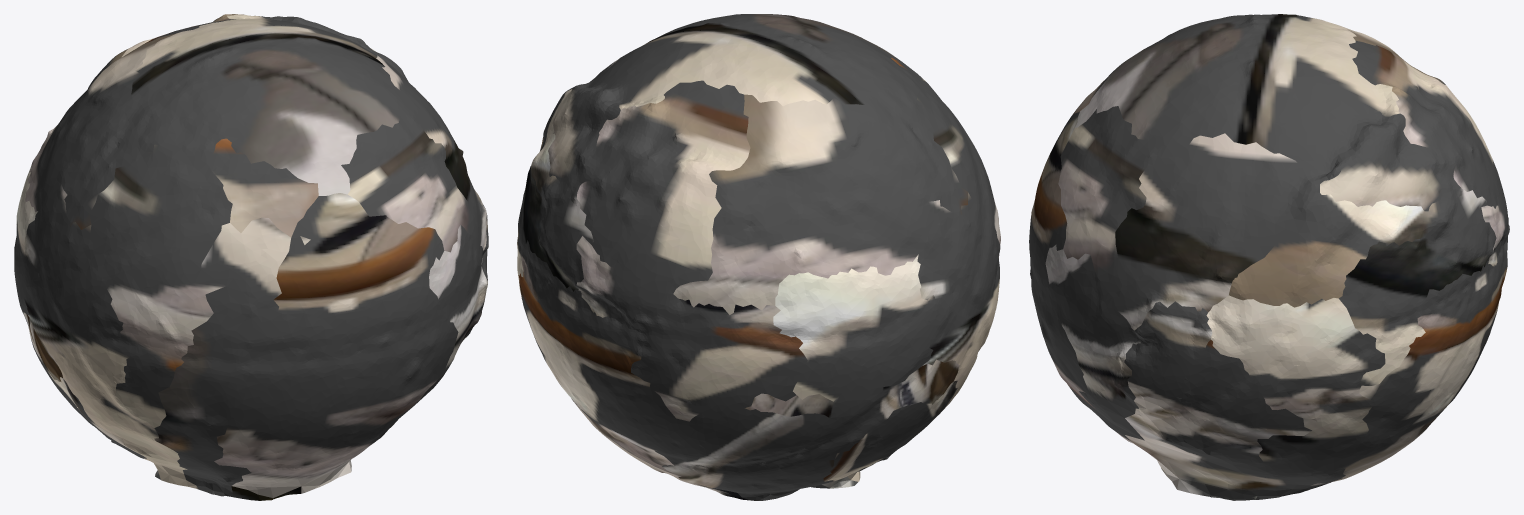
Rendered from SV-15P Basketball.fbx.
The picture shows the model from 3 angles, left to right: view 1: azimuth 30°, elevation 25°; view 2: azimuth 150°, elevation 25°; view 3: azimuth 270°, elevation 25°; orthographic projection. The views are drawn at different scales.
Visible parts, largest first — view 1: mesh; view 2: mesh; view 3: mesh.
Part boxes in pixels (left/top/right/bottom): mesh: left=14, top=14, right=488, bottom=500; mesh: left=517, top=14, right=1000, bottom=500; mesh: left=1029, top=14, right=1509, bottom=500.
Bounding box in the file's own units: 0.2429 × 0.2358 × 0.2419.
